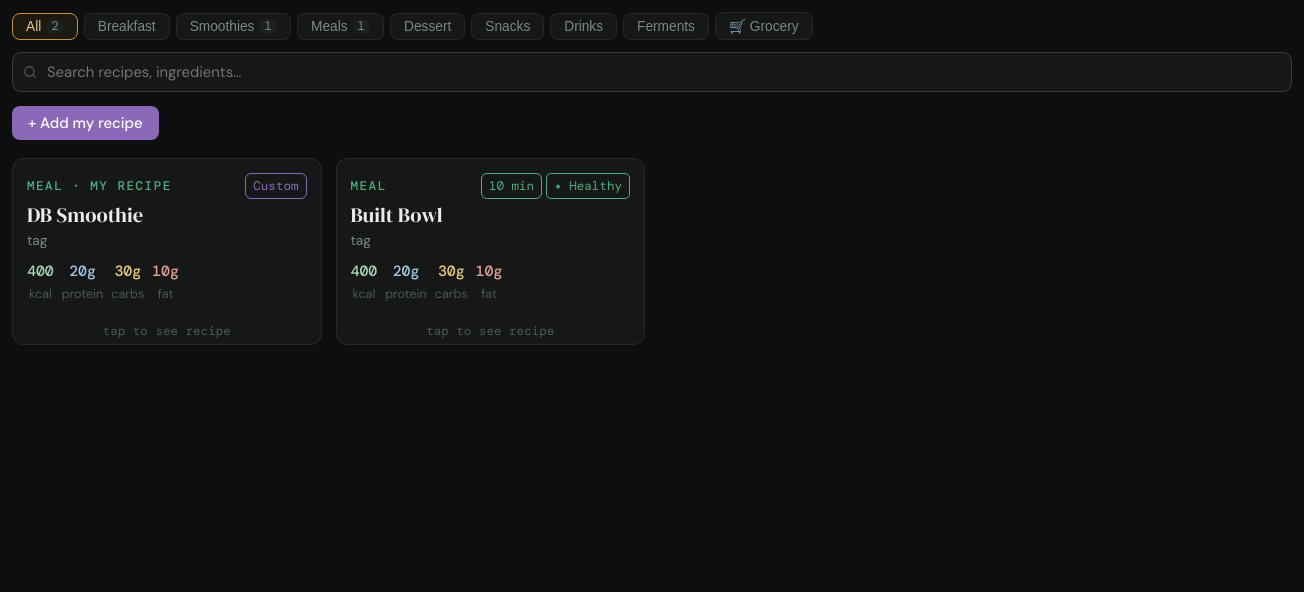
Test: RecipesTab — delete, fork, cook, hide, grocery › deletes a custom recipe through Supabase
Click the text "DB Smoothie".
click(167, 251)  # box [12, 158, 322, 345]
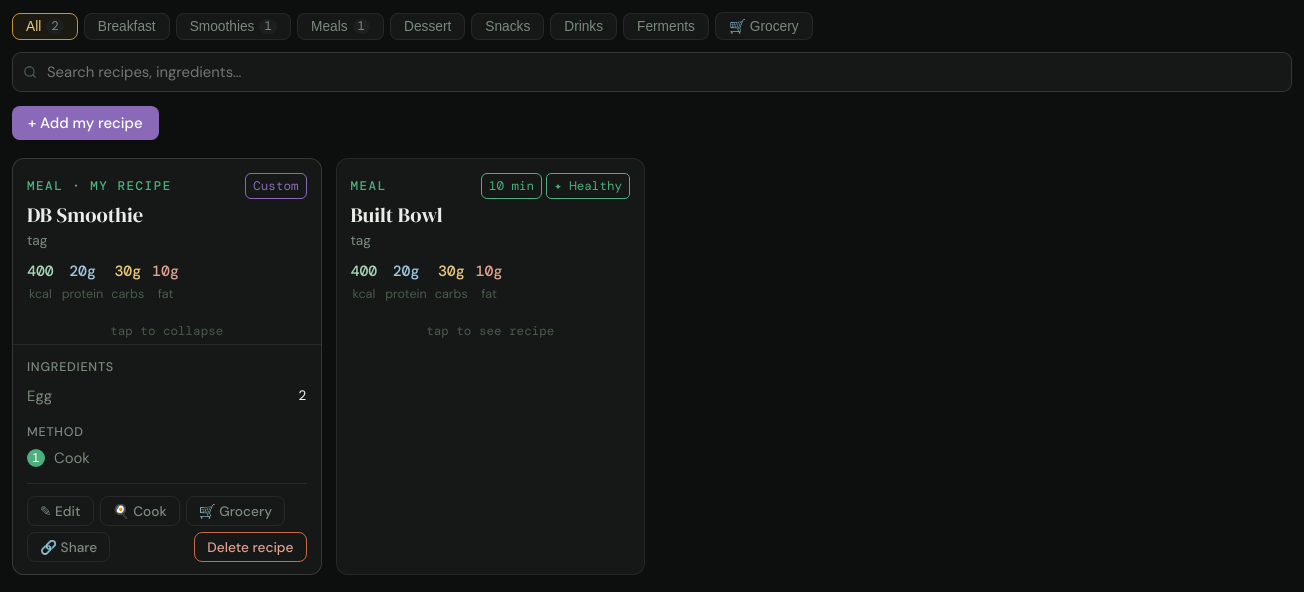
Click the button "Delete recipe".
click(250, 547)  # box [194, 532, 306, 562]
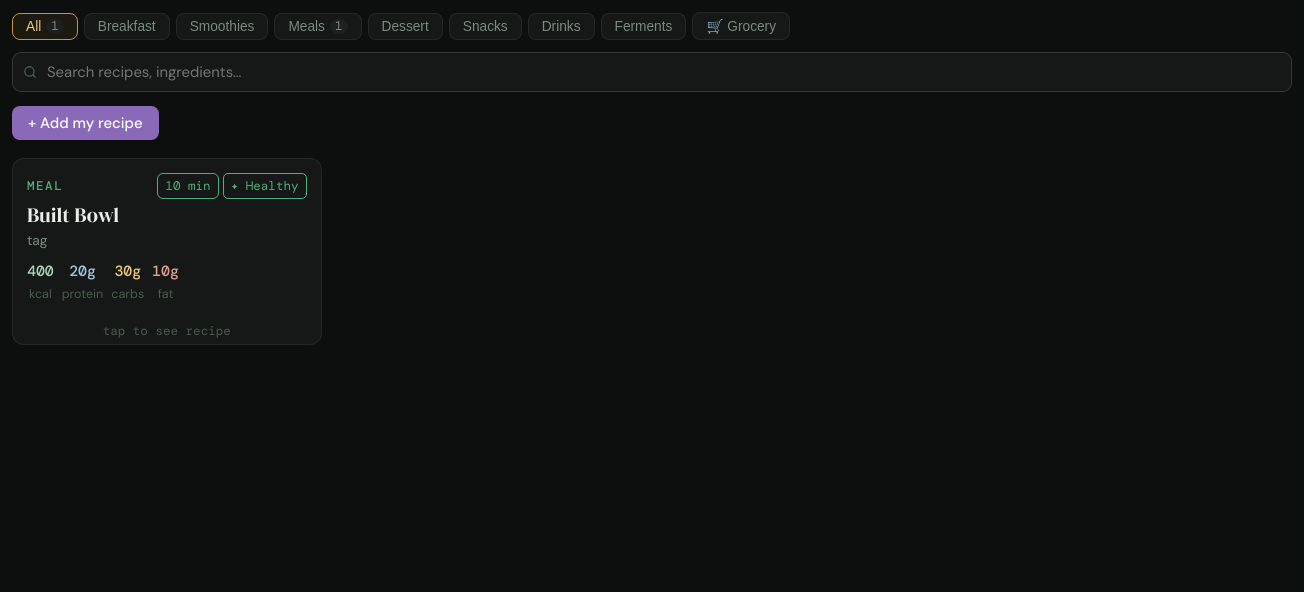
Expected: the text "DB Smoothie" is gone
